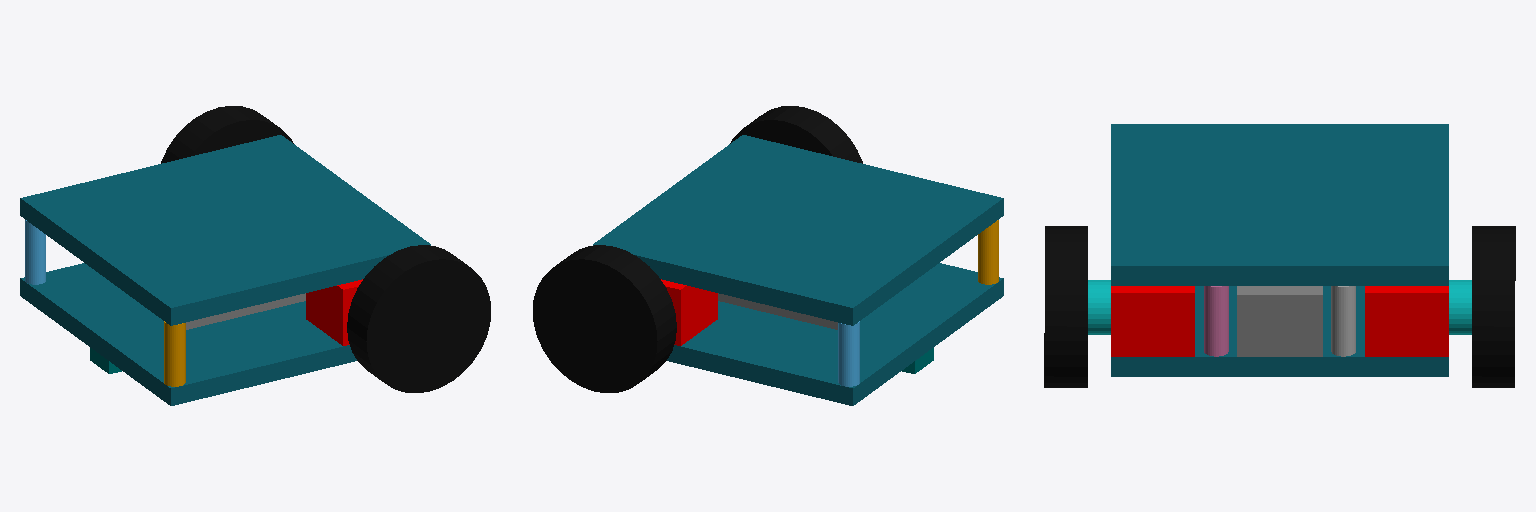
URDF robot description (turtlebot3_burger):
<?xml version="1.0"?>
<robot name="turtlebot3_burger" xmlns:xacro="http://www.ros.org/wiki/xacro">
  
  <material name="box_bot_blue">
      <color rgba="0.088656 0.428691 0.491021 1"/>
  </material>

  <material name="drive_motor">
      <color rgba="1 0 0 1"/>
  </material>

  <material name="battery">
      <color rgba="0.55 0.55 0.55 1"/>
  </material>
  
  <material name="yellow_35mm">
      <color rgba="1.0 1.0 0.0 1"/>
  </material>

  <material name="wheel_axel">
      <color rgba="0.1 0.75 0.75 1"/>
  </material>
  
  <material name="wheel">
      <color rgba="0.1 0.1 0.1 1"/>
  </material>

  <material name="castor_wheel_support">
      <color rgba="0 0.5 0.5 1"/>
  </material>

  <material name="red">
      <color rgba="1.0 0.0 0.0 1"/>
  </material>

  <material name="green_light">
      <color rgba="0.0 1.0 0.0 1"/>
  </material>

  <material name="green_dark">
    <color rgba="0.0 0.5 0.0 1"/>
  </material>

  <material name="blue">
      <color rgba="0.0 0.0 1.0 1"/>
  </material>

  <material name="black">
      <color rgba="0.0 0.0 0.0 1"/>
  </material>

  <material name="white">
      <color rgba="1.0 1.0 1.0 1"/>
  </material>

  <link name="base_link">
  </link>


  <!-- chassis 137.5mm x 137.5mm x 9mm -->
  <link name="chassis">

    <inertial>
      <mass value="0.2"/>
      <origin rpy="0 0 0" xyz="0 0 0"/>
      <inertia ixx="0.00011075895833333336" ixy="0" ixz="0" iyy="0.00011075895833333336" iyz="0" izz="0.00022057291666666671"/>
    </inertial>

    <collision>
      <geometry>
        <box size="0.1375 0.1375 0.009"/>
      </geometry>
    </collision>

    <visual>
      <geometry>
        <box size="0.1375 0.1375 0.009"/>
      </geometry>
      <material name="box_bot_blue"/>
    </visual>
  </link>

  <joint name="base_link_joint" type="fixed">
    <origin rpy="0 0 0" xyz="0 0 0" />
    <parent link="base_link" />
    <child link="chassis" />
  </joint>

  <!-- chassis 137.5mm x 137.5mm x 9mm -->
  <link name="chassis1">
    <inertial>
      <mass value="0.2"/>
      <origin rpy="0 0 0" xyz="0 0 0"/>
      <inertia ixx="0.00011075895833333336" ixy="0" ixz="0" iyy="0.00011075895833333336" iyz="0" izz="0.00022057291666666671"/>
    </inertial>

    <collision>
      <geometry>
        <box size="0.1375 0.1375 0.009"/>
      </geometry>
    </collision>

    <visual>
      <geometry>
        <box size="0.1375 0.1375 0.009"/>
      </geometry>
      <material name="box_bot_blue"/>
    </visual>
  </link>
  <joint name="chasis_to_chasis_1" type="fixed">
    <origin rpy="0 0 0" xyz="0 0 0.0405" />
    <parent link="chassis" />
    <child link="chassis1" />
  </joint>

  <!-- Drive motor - 46.5mm x 34mm x 28.5mm -->
  <link name="drive_motor_1">

 <inertial>
    <mass value="0.050"/>
    <origin xyz="0 0 0" rpy="0 0 0"/> <!-- Center of mass assumed at the origin -->
    <inertia ixx="8.201041666666668e-06" ixy="0" ixz="0"
             iyy="1.239375e-05" iyz="0"
             izz="1.3826041666666666e-05"/>
  </inertial>

  <!-- Collision Block -->
  <collision>
    <geometry>
      <box size="0.0465 0.034 0.0285"/> <!-- Width, Depth, Height -->
    </geometry>
    <origin xyz="0 0 0" rpy="0 0 0"/> <!-- Assuming the collision box is aligned with the link's frame -->
  </collision>

    <visual>
      <geometry>
        <box size="0.0465 0.034 0.0285"/>
      </geometry>
      <material name="drive_motor"/>
    </visual>
  </link>

<joint name="chasis_left_drive_motor" type="fixed">
  <origin rpy="0 0 0" xyz="0.0455 0.05175 0.01875" />
  <parent link="chassis" />
  <child link="drive_motor_1" />
</joint>

  <link name="drive_motor_2">
 <inertial>
    <mass value="0.050"/>
    <origin xyz="0 0 0" rpy="0 0 0"/> <!-- Center of mass assumed at the origin -->
    <inertia ixx="8.201041666666668e-06" ixy="0" ixz="0"
             iyy="1.239375e-05" iyz="0"
             izz="1.3826041666666666e-05"/>
  </inertial>

  <!-- Collision Block -->
  <collision>
    <geometry>
      <box size="0.0465 0.034 0.0285"/> <!-- Width, Depth, Height -->
    </geometry>
    <origin xyz="0 0 0" rpy="0 0 0"/> <!-- Assuming the collision box is aligned with the link's frame -->
  </collision>  
    <visual>
      <geometry>
        <box size="0.0465 0.034 0.0285"/>
      </geometry>
      <material name="drive_motor"/>
    </visual>
  </link>

<joint name="chasis_right_drive_motor" type="fixed">
  <origin rpy="0 0 0" xyz="0.0455 -0.05175 0.01875" />
  <parent link="chassis" />
  <child link="drive_motor_2" />
</joint>

    <!-- 0.2 kg 0.100 0.035 0.0275 -->

  <link name="battery">
  <!-- Inertial Block -->
  <inertial>
    <mass value="0.2"/>
    <origin xyz="0 0 0" rpy="0 0 0"/> <!-- Center of mass assumed at the origin -->
    <inertia ixx="3.302083333333334e-05" ixy="0" ixz="0"
             iyy="0.00017927083333333337" iyz="0"
             izz="0.00018708333333333337"/>
  </inertial>

  <!-- Collision Block -->
  <collision>
    <geometry>
      <box size="0.1 0.035 0.0275"/> <!-- Width, Depth, Height -->
    </geometry>
    <origin xyz="0 0 0" rpy="0 0 0"/> <!-- Assuming the collision box is aligned with the link's frame -->
  </collision>

    <visual>
      <geometry>
        <box size="0.100 0.035 0.0275"/>
      </geometry>
      <material name="battery"/>
    </visual>
  </link>

<joint name="chasis_battery" type="fixed">
  <origin rpy="0 0 0" xyz="0.01875 0 0.01825" />
  <parent link="chassis" />
  <child link="battery" />
</joint>

  <link name="spacer_chasis_1_01">
  <inertial>
    <mass value="0.007"/>
    <origin xyz="0 0 0" rpy="0 0 0"/> <!-- Center of mass assumed at the origin -->
    <inertia ixx="7.583333333333335e-07" ixy="0" ixz="0"
             iyy="7.583333333333335e-07" iyz="0"
             izz="8.750000000000001e-08"/>
  </inertial>

  <!-- Collision Block -->
  <collision>
    <geometry>
      <cylinder radius="0.005" length="0.035"/> <!-- Radius and Height (length) of the cylinder -->
    </geometry>
    <origin xyz="0 0 0" rpy="0 0 0"/> <!-- Assuming the collision cylinder is aligned with the link's frame -->
  </collision>  
    <visual>
      <geometry>
        <cylinder radius="0.005" length="0.035"/>
      </geometry>
      <material name="spacer_35mm"/>
    </visual>
  </link>

<joint name="chasis_spacer_chasis_1_01" type="fixed">
  <origin rpy="0 0 0" xyz="0.06375 -0.025875 0.01825" />
  <parent link="chassis" />
  <child link="spacer_chasis_1_01" />
</joint>

 <link name="spacer_chasis_1_02">
   <inertial>
    <mass value="0.007"/>
    <origin xyz="0 0 0" rpy="0 0 0"/> <!-- Center of mass assumed at the origin -->
    <inertia ixx="7.583333333333335e-07" ixy="0" ixz="0"
             iyy="7.583333333333335e-07" iyz="0"
             izz="8.750000000000001e-08"/>
  </inertial>

  <!-- Collision Block -->
  <collision>
    <geometry>
      <cylinder radius="0.005" length="0.035"/> <!-- Radius and Height (length) of the cylinder -->
    </geometry>
    <origin xyz="0 0 0" rpy="0 0 0"/> <!-- Assuming the collision cylinder is aligned with the link's frame -->
  </collision>
    <visual>
      <geometry>
        <cylinder radius="0.005" length="0.035"/>
      </geometry>
      <material name="spacer_35mm"/>
    </visual>
  </link>

<joint name="chasis_spacer_chasis_1_02" type="fixed">
  <origin rpy="0 0 0" xyz="0.06375 0.025875 0.01825" />
  <parent link="chassis" />
  <child link="spacer_chasis_1_02" />
</joint>


 <link name="spacer_chasis_1_03">
   <inertial>
    <mass value="0.007"/>
    <origin xyz="0 0 0" rpy="0 0 0"/> <!-- Center of mass assumed at the origin -->
    <inertia ixx="7.583333333333335e-07" ixy="0" ixz="0"
             iyy="7.583333333333335e-07" iyz="0"
             izz="8.750000000000001e-08"/>
  </inertial>

  <!-- Collision Block -->
  <collision>
    <geometry>
      <cylinder radius="0.005" length="0.035"/> <!-- Radius and Height (length) of the cylinder -->
    </geometry>
    <origin xyz="0 0 0" rpy="0 0 0"/> <!-- Assuming the collision cylinder is aligned with the link's frame -->
  </collision>
    <visual>
      <geometry>
        <cylinder radius="0.005" length="0.035"/>
      </geometry>
      <material name="spacer_35mm"/>
    </visual>
  </link>

<joint name="chasis_spacer_chasis_1_03" type="fixed">
  <origin rpy="0 0 0" xyz="-0.06375 -0.06375 0.01825" />
  <parent link="chassis" />
  <child link="spacer_chasis_1_03" />
</joint>

 <link name="spacer_chasis_1_04">
   <inertial>
    <mass value="0.007"/>
    <origin xyz="0 0 0" rpy="0 0 0"/> <!-- Center of mass assumed at the origin -->
    <inertia ixx="7.583333333333335e-07" ixy="0" ixz="0"
             iyy="7.583333333333335e-07" iyz="0"
             izz="8.750000000000001e-08"/>
  </inertial>

  <!-- Collision Block -->
  <collision>
    <geometry>
      <cylinder radius="0.005" length="0.035"/> <!-- Radius and Height (length) of the cylinder -->
    </geometry>
    <origin xyz="0 0 0" rpy="0 0 0"/> <!-- Assuming the collision cylinder is aligned with the link's frame -->
  </collision>
    <visual>
      <geometry>
        <cylinder radius="0.005" length="0.035"/>
      </geometry>
      <material name="spacer_35mm"/>
    </visual>
  </link>

<joint name="chasis_spacer_chasis_1_04" type="fixed">
  <origin rpy="0 0 0" xyz="-0.06375 0.06375 0.01825" />
  <parent link="chassis" />
  <child link="spacer_chasis_1_04" />
</joint>

 <link name="drive_wheel_axel_l">
  <!-- Inertial Block -->
  <inertial>
    <mass value="0.010"/>
    <origin xyz="0 0 0" rpy="0 0 0"/> <!-- Center of mass assumed at the origin -->
    <inertia ixx="3.892583333333333e-07" ixy="0" ixz="0"
             iyy="3.892583333333333e-07" iyz="0"
             izz="6.328125e-07"/>
  </inertial>

  <!-- Collision Block -->
  <collision>
    <geometry>
      <cylinder radius="0.01125" length="0.00935"/> <!-- Radius and Height (length) of the cylinder -->
    </geometry>
    <origin xyz="0 0 0" rpy="0 0 0"/> <!-- Assuming the collision cylinder is aligned with the link's frame -->
  </collision>

    <visual>
      <geometry>
        <cylinder radius="0.01125" length="0.00935" />
      </geometry>
      <material name="wheel_axel"/>
    </visual>
  </link>

<joint name="drive_wheel_to_axel_l" type="fixed">
  <origin rpy="1.57 0 0" xyz="0.05175 -0.073425 0.01875" />
  <parent link="chassis" />
  <child link="drive_wheel_axel_l" />
</joint>

 <link name="drive_wheel_axel_r">
  <!-- Inertial Block -->
  <inertial>
    <mass value="0.010"/>
    <origin xyz="0 0 0" rpy="0 0 0"/> <!-- Center of mass assumed at the origin -->
    <inertia ixx="3.892583333333333e-07" ixy="0" ixz="0"
             iyy="3.892583333333333e-07" iyz="0"
             izz="6.328125e-07"/>
  </inertial>

  <!-- Collision Block -->
  <collision>
    <geometry>
      <cylinder radius="0.01125" length="0.00935"/> <!-- Radius and Height (length) of the cylinder -->
    </geometry>
    <origin xyz="0 0 0" rpy="0 0 0"/> <!-- Assuming the collision cylinder is aligned with the link's frame -->
  </collision> 
    <visual>
      <geometry>
        <cylinder radius="0.01125" length="0.00935" />
      </geometry>
      <material name="wheel_axel"/>
    </visual>
  </link>

<joint name="drive_wheel_to_axel_r" type="fixed">
  <origin rpy="1.57 0 0" xyz="0.05175 0.073425 0.01875" />
  <parent link="chassis" />
  <child link="drive_wheel_axel_r" />
</joint>

 <link name="drive_wheel_l">
   <inertial>
    <mass value="0.010" />
    <origin xyz="0 0 0" rpy="0 0 0" />
    <inertia ixx="2.986533333333334e-06" ixy="0" ixz="0" 
             iyy="2.986533333333334e-06" iyz="0" izz="5.445e-06" />
  </inertial>

  <!-- Collision Properties -->
  <collision>
    <origin xyz="0 0 0" rpy="0 0 0" />
    <geometry>
      <cylinder radius="0.033" length="0.0178" />
    </geometry>
  </collision>

    <visual>
      <geometry>
        <cylinder radius="0.033" length="0.0178" />
      </geometry>
      <material name="wheel"/>
    </visual>
  </link>
  <gazebo reference="drive_wheel_l">
    <kp>1000000000000000000000000000.0</kp>
    <kd>1000000000000000000000000000.0</kd>
    <mu1>10.0</mu1>
    <mu2>10.0</mu2>
    <material>Gazebo/Green</material>
  </gazebo>

<joint name="drive_wheel_tire_to_axel_l" type="continuous">
  <origin rpy="1.57 0 0" xyz="0.05175 -0.087 0.01875" />
  <parent link="chassis" />
  <child link="drive_wheel_l"/>
  <axis xyz="0 0 1"/>
</joint>

 <link name="drive_wheel_r">
  <inertial>
    <mass value="0.010" />
    <origin xyz="0 0 0" rpy="0 0 0" />
    <inertia ixx="2.986533333333334e-06" ixy="0" ixz="0" 
             iyy="2.986533333333334e-06" iyz="0" izz="5.445e-06" />
  </inertial>

  <!-- Collision Properties -->
  <collision>
    <origin xyz="0 0 0" rpy="0 0 0" />
    <geometry>
      <cylinder radius="0.033" length="0.0178" />
    </geometry>
  </collision>

    <visual>
      <geometry>
        <cylinder radius="0.033" length="0.0178" />
      </geometry>
      <material name="wheel"/>
    </visual>
  </link>

  <gazebo reference="drive_wheel_r">
    <kp>1000000000000000000000000000.0</kp>
    <kd>1000000000000000000000000000.0</kd>
    <mu1>10.0</mu1>
    <mu2>10.0</mu2>
    <material>Gazebo/Green</material>
  </gazebo>

<joint name="drive_wheel_tire_to_axel_r" type="continuous">
  <origin rpy="1.57 0 0" xyz="0.05175 0.087 0.01875" />
  <parent link="chassis" />
  <child link="drive_wheel_r"/> 
  <axis xyz="0 0 1"/>
</joint>

<!-- Castor wheel -->
 <link name="drive_castor_wheel_support">
  <inertial>
    <mass value="0.010" />
    <origin xyz="0 0 0" rpy="0 0 0" />
    <inertia ixx="3.233333333333333e-07" ixy="0" ixz="0" 
             iyy="8.033333333333334e-07" iyz="0" izz="1.02e-06" />
  </inertial>

  <!-- Collision Properties -->
  <collision>
    <origin xyz="0 0 0" rpy="0 0 0" />
    <geometry>
      <box size="0.030 0.018 0.008" />
    </geometry>
  </collision> 
    <visual>
      <geometry>
        <box size="0.030 0.018 0.008" />
      </geometry>
      <material name="castor_wheel_support"/>
    </visual>
  </link>

<joint name="drive_castor_wheel_support_size" type="fixed">
  <origin rpy="0 0 0" xyz="-0.05175 0 -0.009" />
  <parent link="chassis" />
  <child link="drive_castor_wheel_support"/> 
</joint>

  <!-- Caster Wheel Front -->
  <link name="front_yaw_link">
      <collision>
        <origin rpy="0 1.5707 1.5707" xyz="0 0 0"/>
        <geometry>
          <cylinder length="0.001" radius="0.0045000000000000005"/>
        </geometry>
      </collision>

      <inertial>
          <origin rpy="0 1.5707 1.5707" xyz="0 0 0"/>
          <mass value="0.001"/>
          <inertia ixx="5.145833333333334e-09" ixy="0" ixz="0" iyy="5.145833333333334e-09" iyz="0" izz="1.0125000000000003e-08"/>
      </inertial>  
    <visual>
        <origin rpy="0 1.5707 1.5707" xyz="0 0 0"/>
        <geometry>
          <cylinder length="0.001" radius="0.005"/>
        </geometry>
        <material name="blue"/>
      </visual>
  </link>

    <gazebo reference="front_yaw_link">
        <material>Gazebo/Blue</material>
    </gazebo>

  <joint name="front_yaw_joint" type="continuous">
    <origin rpy="0 0 0" xyz="0 0 -0.004" />
    <parent link="drive_castor_wheel_support" />
    <child link="front_yaw_link" />
    <axis xyz="0 0 1" />
    <limit effort="1000.0" velocity="100.0" />
    <dynamics damping="0.0" friction="0.1"/>
  </joint>

  <link name="front_roll_link">
     <collision>
        <origin rpy="0 1.5707 1.5707" xyz="0 0 0"/>
        <geometry>
          <cylinder length="0.001" radius="0.0045000000000000005"/>
        </geometry>
      </collision>

      <inertial>
          <origin rpy="0 1.5707 1.5707" xyz="0 0 0"/>
          <mass value="0.001"/>
          <inertia ixx="5.145833333333334e-09" ixy="0" ixz="0" iyy="5.145833333333334e-09" iyz="0" izz="1.0125000000000003e-08"/>
      </inertial>  
      <visual>
        <origin rpy="0 1.5707 1.5707" xyz="0 0 0"/>
        <geometry>
          <cylinder length="0.005" radius="0.005"/>
        </geometry>
        <material name="red"/>
      </visual>
  </link>

    <gazebo reference="front_roll_link">
        <material>Gazebo/Blue</material>
    </gazebo>

  <joint name="front_roll_joint" type="continuous">
    <origin rpy="0 0 0" xyz="0 0 0" />
    <parent link="front_yaw_link" />
    <child link="front_roll_link" />
    <axis xyz="1 0 0" />
    <limit effort="1000.0" velocity="100.0" />
    <dynamics damping="0.0" friction="0.1"/>
  </joint>

  <link name="front_pitch_link">
    <collision>
      <origin rpy="0 1.5707 1.5707" xyz="0 0 0"/>
      <geometry>
        <sphere radius="0.010"/>
      </geometry>
    </collision>

    <inertial>
        <origin rpy="0 1.5707 1.5707" xyz="0 0 0"/>
        <mass value="0.001"/>
        <inertia ixx="4e-08" ixy="0" ixz="0" iyy="4e-08" iyz="0" izz="4e-08"/>
    </inertial>  
    <visual>
      <origin rpy="0 1.5707 1.5707" xyz="0 0 0"/>
      <geometry>
        <sphere radius="0.005"/>
      </geometry>
      <material name="green_dark"/>
    </visual>
  </link>

  <gazebo reference="front_pitch_link">
    <kp>1000000000000000000000000000.0</kp>
    <kd>1000000000000000000000000000.0</kd>
    <mu1>0.5</mu1>
    <mu2>0.5</mu2>
    <material>Gazebo/Purple</material>
  </gazebo>


  <joint name="front_pitch_joint" type="continuous">
    <origin rpy="0 0 0" xyz="0 0 0" />
    <parent link="front_roll_link" />
    <child link="front_pitch_link" />
    <axis xyz="0 1 0" />
    <limit effort="1000.0" velocity="100.0" />
    <dynamics damping="0.0" friction="0.1"/>
  </joint>

</robot>

--- Render facts (derived) ---
The picture shows the robot from 3 angles, left to right: view 1: azimuth 30°, elevation 25°; view 2: azimuth 150°, elevation 25°; view 3: azimuth 270°, elevation 25°; orthographic projection.
Robot: turtlebot3_burger — 18 links, 17 joints (5 continuous, 12 fixed); root link base_link; default pose: all joints at 0.
Links seen in each view (by area): view 1: chassis1, chassis, drive_wheel_l, drive_wheel_r, drive_motor_2, spacer_chasis_1_03, spacer_chasis_1_04, battery; view 2: chassis1, chassis, drive_wheel_r, drive_wheel_l, drive_motor_1, spacer_chasis_1_04, spacer_chasis_1_03, battery; view 3: chassis1, chassis, drive_wheel_l, drive_wheel_r, battery, drive_motor_1, drive_motor_2, spacer_chasis_1_01, spacer_chasis_1_02, drive_wheel_axel_l, drive_wheel_axel_r.
Link boxes in pixels (x1=…): chassis1: x1=20, y1=135, x2=430, y2=325; chassis: x1=20, y1=263, x2=356, y2=405; drive_wheel_l: x1=347, y1=245, x2=490, y2=392; drive_wheel_r: x1=161, y1=106, x2=293, y2=163; drive_motor_2: x1=306, y1=279, x2=362, y2=345; spacer_chasis_1_03: x1=164, y1=321, x2=185, y2=386; spacer_chasis_1_04: x1=25, y1=220, x2=45, y2=284; battery: x1=186, y1=293, x2=305, y2=329; chassis1: x1=593, y1=135, x2=1003, y2=325; chassis: x1=667, y1=263, x2=1003, y2=405; drive_wheel_r: x1=533, y1=245, x2=676, y2=392; drive_wheel_l: x1=730, y1=106, x2=862, y2=163; drive_motor_1: x1=661, y1=279, x2=717, y2=345; spacer_chasis_1_04: x1=838, y1=321, x2=859, y2=386; spacer_chasis_1_03: x1=978, y1=220, x2=998, y2=284; battery: x1=718, y1=293, x2=837, y2=329; chassis1: x1=1111, y1=124, x2=1448, y2=285; chassis: x1=1111, y1=286, x2=1448, y2=376; drive_wheel_l: x1=1044, y1=226, x2=1087, y2=387; drive_wheel_r: x1=1472, y1=226, x2=1515, y2=387; battery: x1=1237, y1=286, x2=1322, y2=356; drive_motor_1: x1=1365, y1=286, x2=1448, y2=356; drive_motor_2: x1=1111, y1=286, x2=1194, y2=356; spacer_chasis_1_01: x1=1204, y1=286, x2=1228, y2=356; spacer_chasis_1_02: x1=1331, y1=286, x2=1355, y2=356; drive_wheel_axel_l: x1=1088, y1=280, x2=1110, y2=334; drive_wheel_axel_r: x1=1449, y1=280, x2=1471, y2=334.
Bounding box of the posed robot: 0.1535 × 0.1919 × 0.0698 m (x, y, z).
Geometry: primitives only (box / cylinder / sphere), no mesh files.